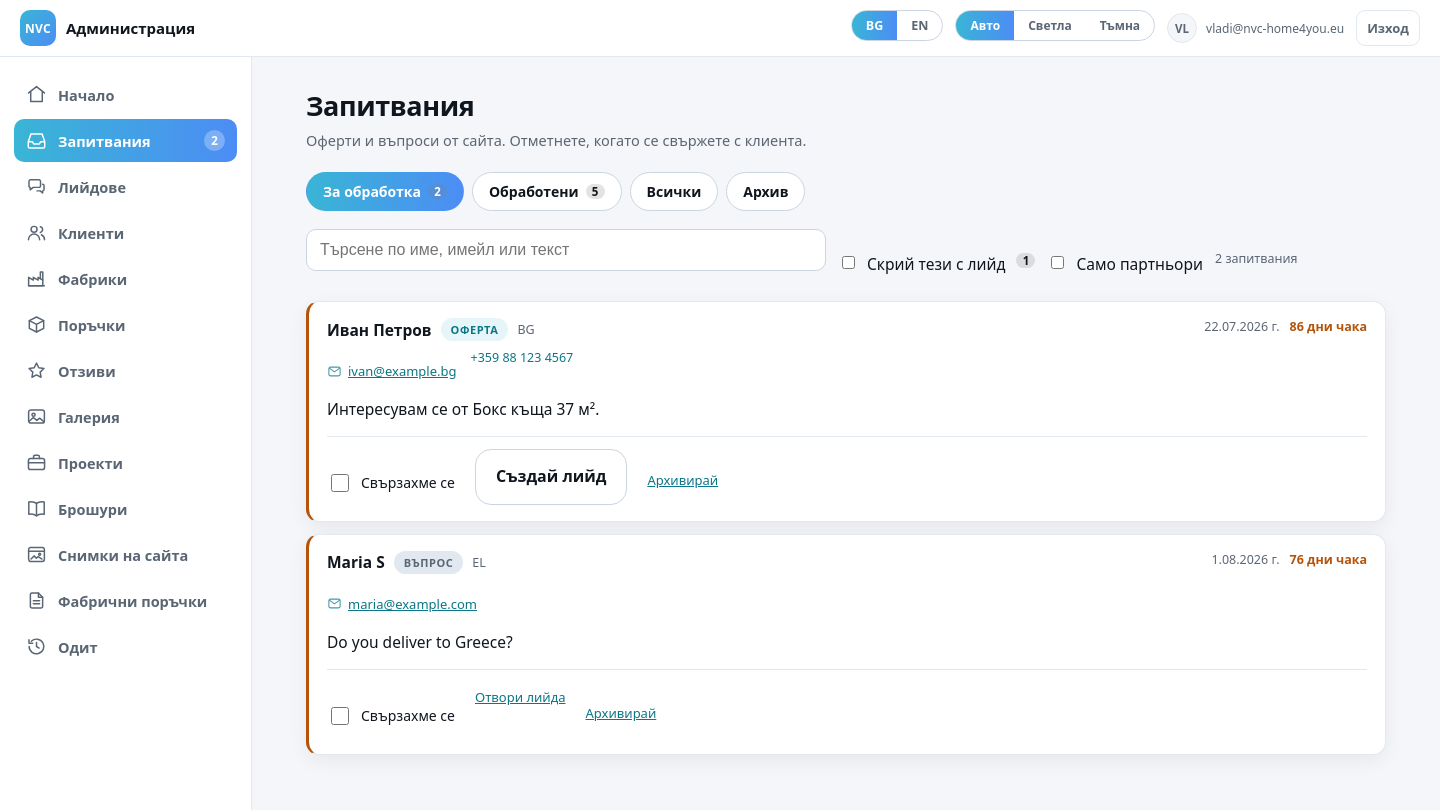
Test: AdminInquiriesPage › archives an inquiry without deleting it, and offers to undo
Click the button "Архивирай" below "Иван Петров".
click(683, 480)  # box [647,455,718,505]
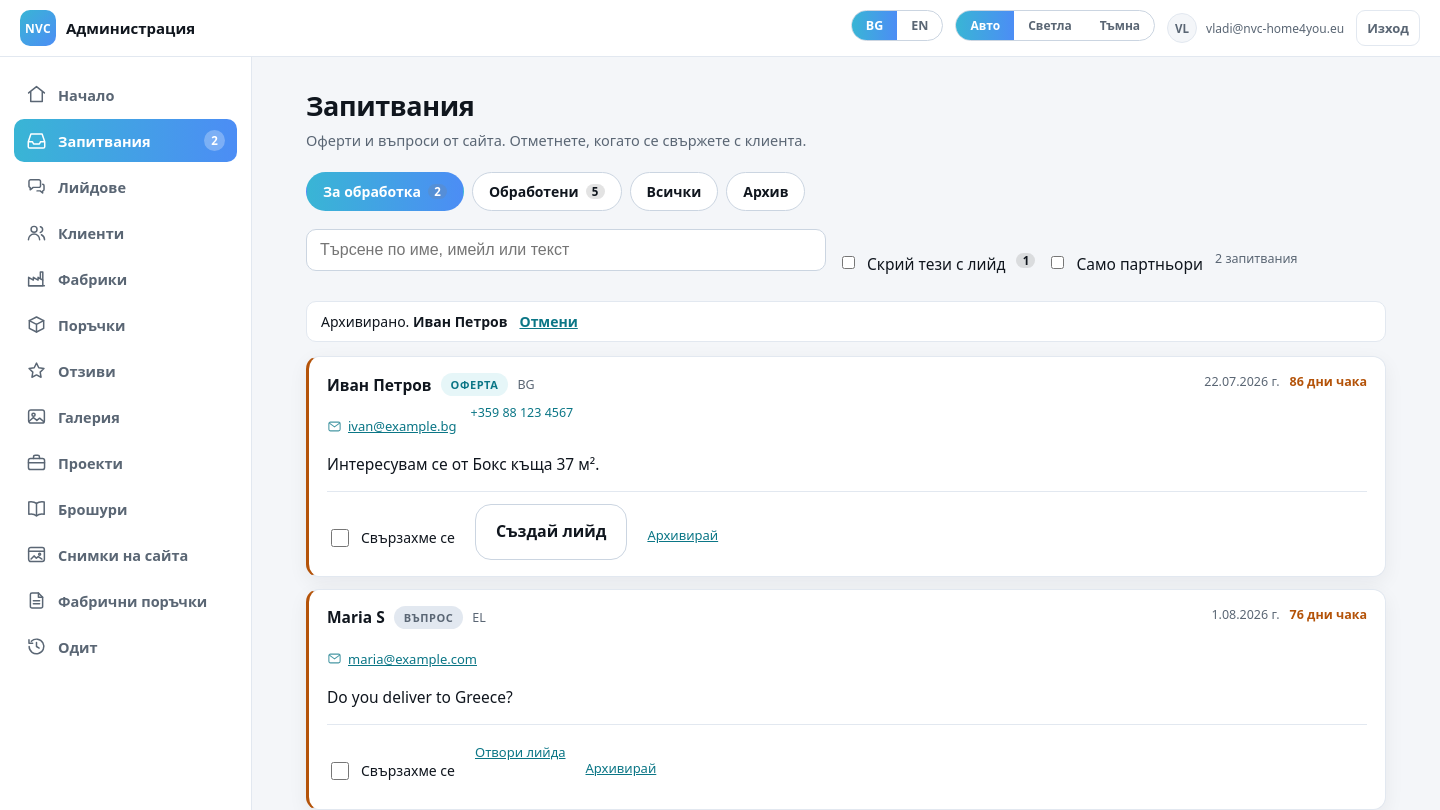
expect the button "Отмени" is shown: met, box [520,312,578,331]
